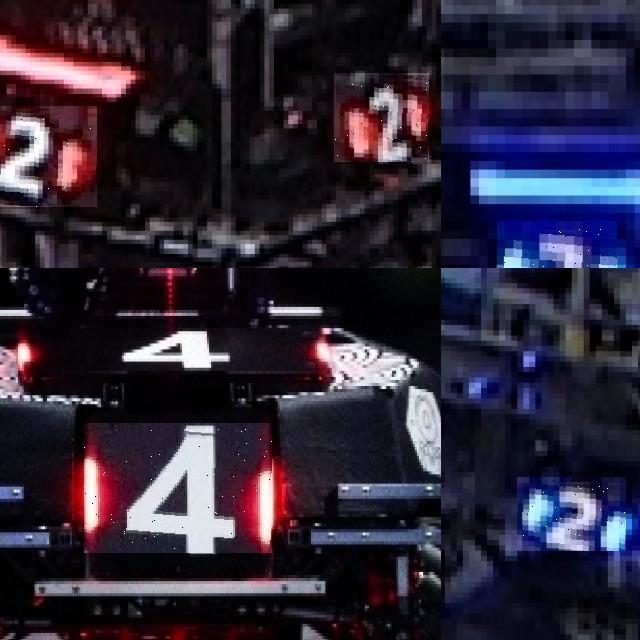B2: (517, 477, 626, 551), (496, 221, 617, 268)
R2: (0, 106, 97, 208), (334, 73, 429, 162)
R4: (84, 423, 272, 553)
